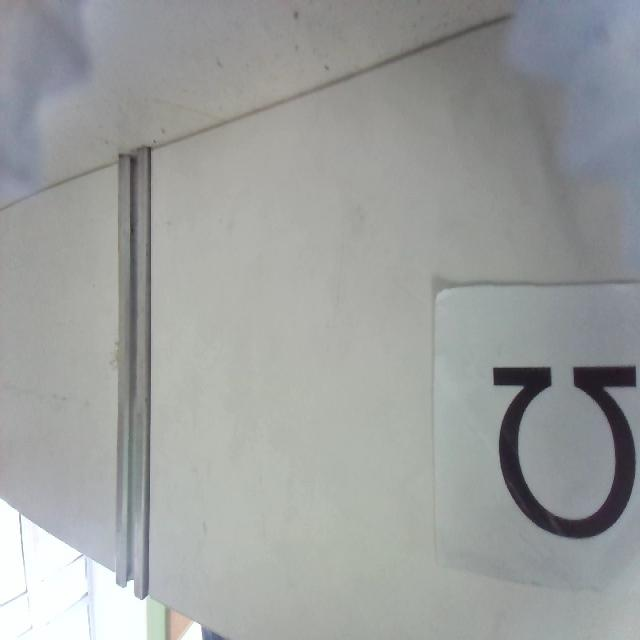OM: (489, 363, 640, 536)
